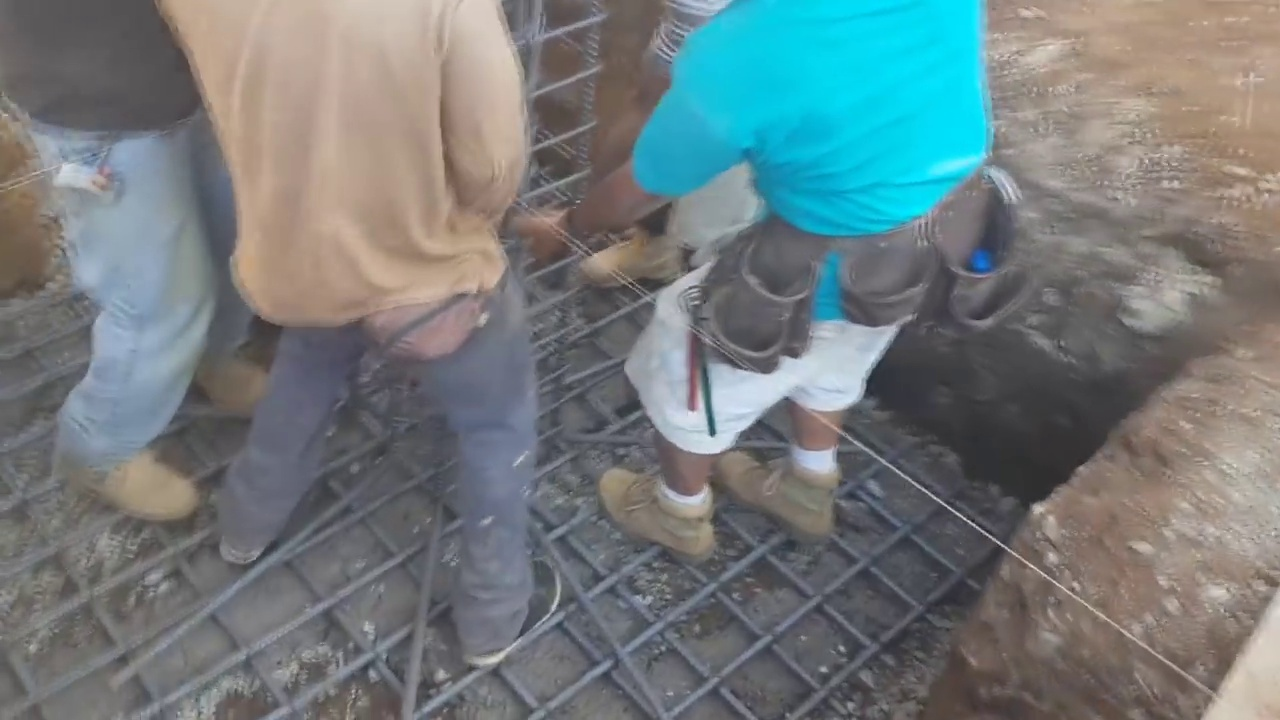person: (515, 3, 1013, 557), (159, 0, 542, 656), (0, 0, 258, 526)
